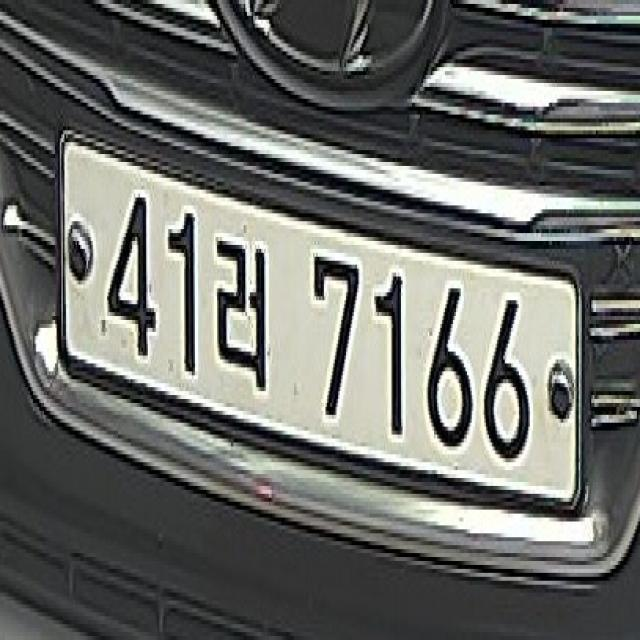1: (372, 268, 406, 438), (167, 198, 198, 379)
4: (102, 190, 157, 368)
6: (478, 285, 532, 470), (424, 273, 475, 458)
7: (310, 253, 360, 427)
leo: (214, 237, 272, 395)
license_plate: (57, 119, 580, 514)
